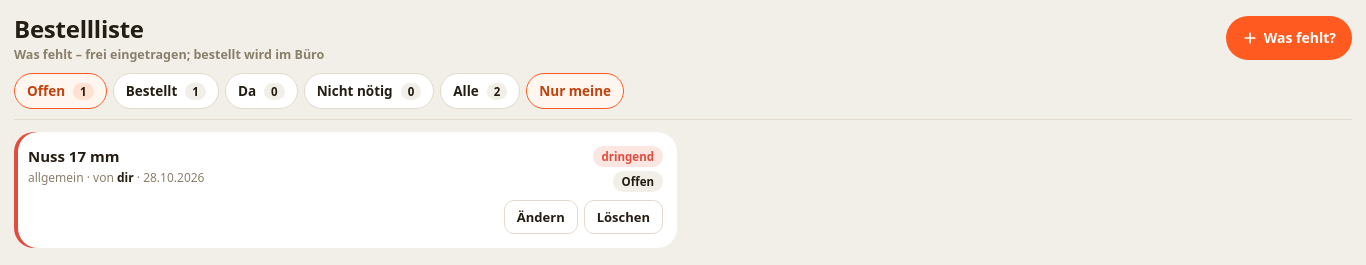
Seite Bestellliste › Techniker: nur meine offenen, ändern/löschen eigener, kein Stand
Expected: the text "Nuss 17 mm" is shown, 28,146 -> 119,166
Expected: the text "Ventile" is not shown
Step 1. Click the button "Nur meine" → {"x": 575, "y": 91}, box 526,73 -> 624,109
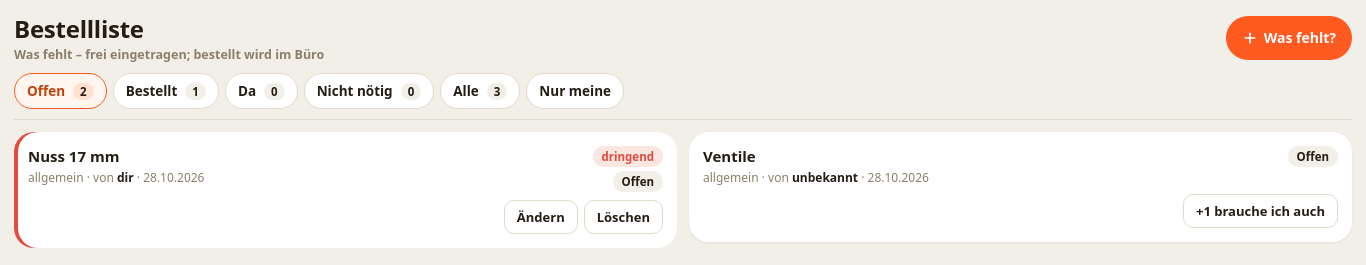
Expected: the button "+1 brauche ich auch" is shown, 1183,194 -> 1338,228
